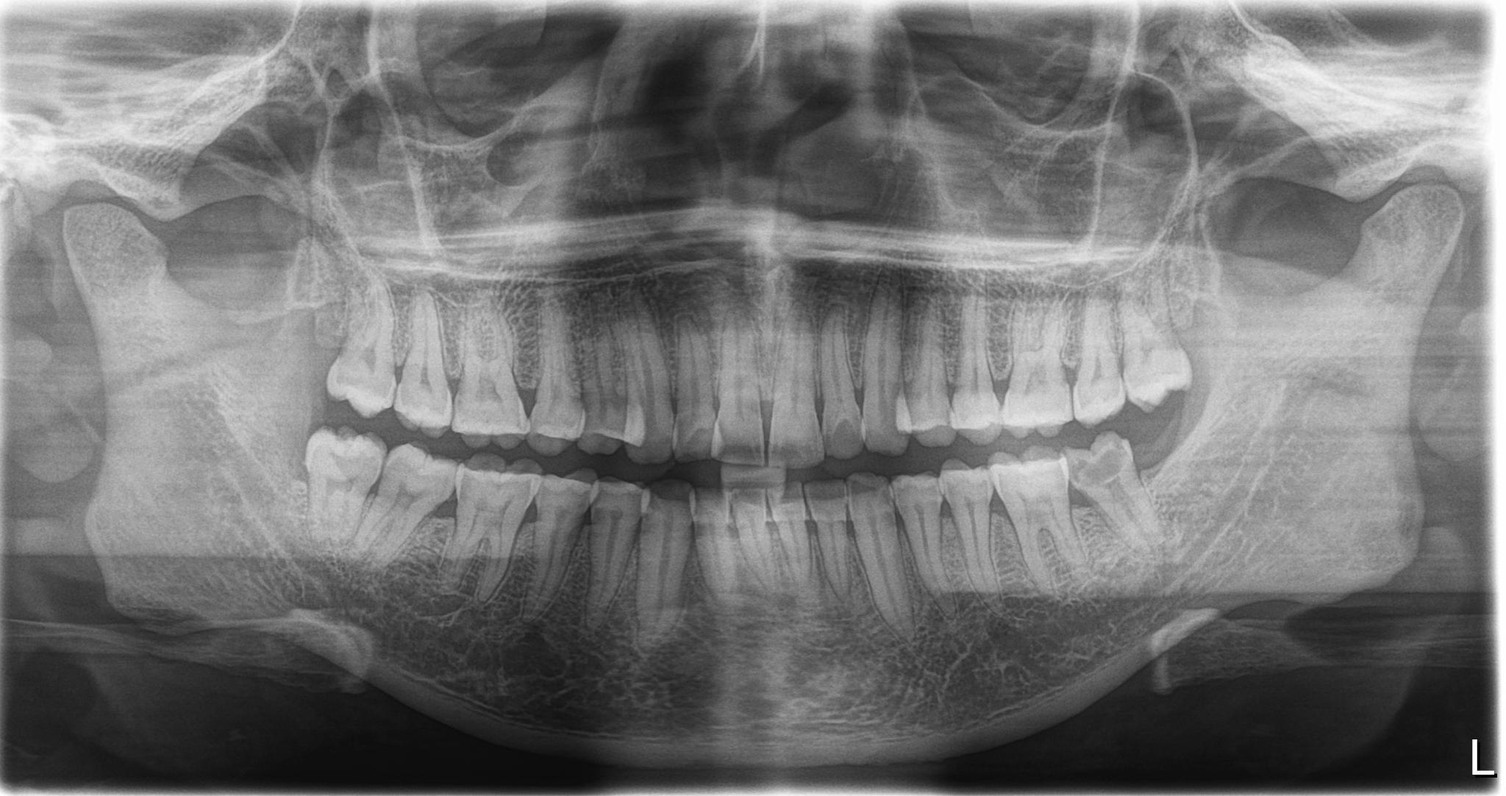Dental Caries: (1074, 448, 1148, 522)
Impacted Third Molar: (265, 414, 383, 541)
Missing Tooth: (1160, 421, 1205, 516)
